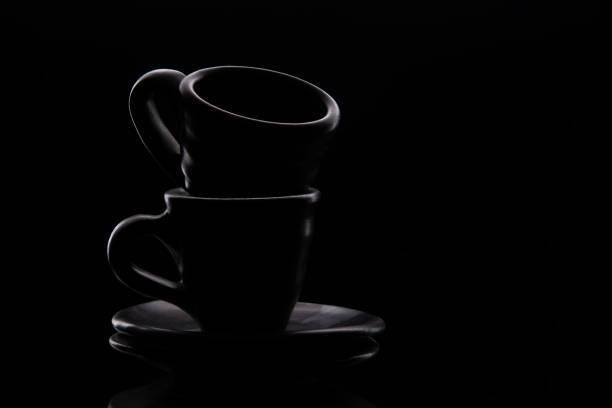cup-handle: (106, 184, 322, 337), (128, 64, 341, 196)
